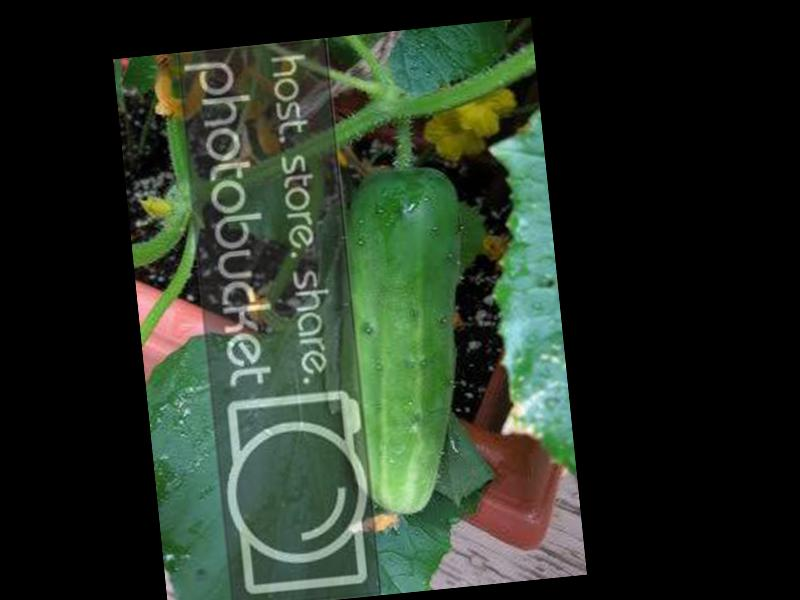Cucumber: (318, 166, 490, 522)
